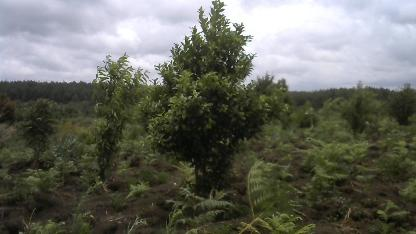tree: (153, 0, 292, 207)
